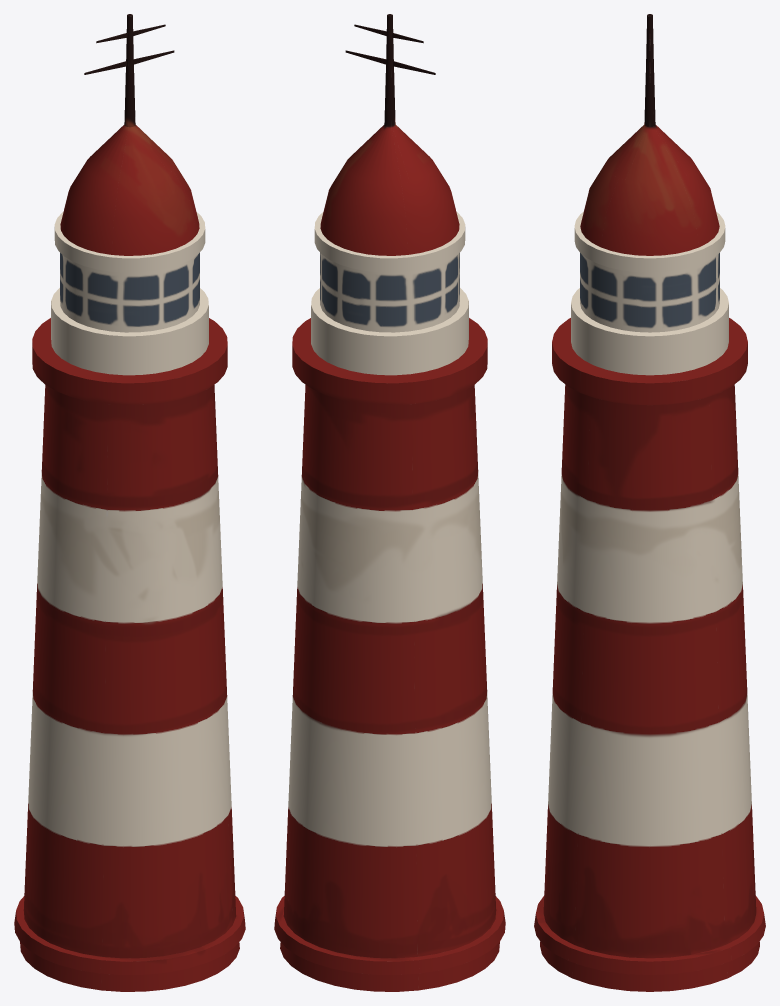
Rendered from redtower.fbx.
3 views of the same model, side by side, from view 1: azimuth 30°, elevation 25°; view 2: azimuth 150°, elevation 25°; view 3: azimuth 270°, elevation 25° (orthographic).
Parts seen in each view (by area): view 1: 柱体; view 2: 柱体; view 3: 柱体.
Boxes of the visible parts, box(x1,y1,x2,y2) form: 柱体: box(14, 14, 245, 991); 柱体: box(274, 14, 505, 991); 柱体: box(534, 14, 765, 991).
Size of the model in its own units: 214 by 945 by 214.
